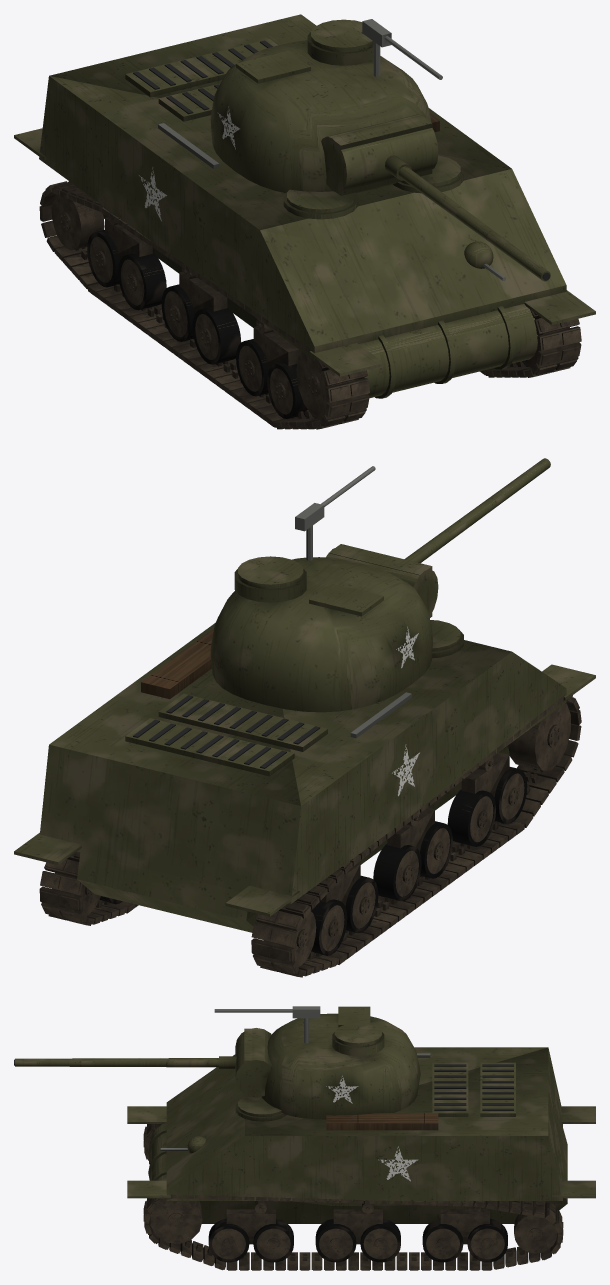
File: sherman.glb
3 renders of one model, top to bottom at view 1: azimuth 30°, elevation 25°; view 2: azimuth 150°, elevation 25°; view 3: azimuth 270°, elevation 25°, orthographic. The views are drawn at different scales.
Visible parts, largest first — view 1: Hull, Tracks, Turret, Gun; view 2: Hull, Turret, Tracks, Gun; view 3: Hull, Tracks, Turret, Gun.
Part boxes in pixels (x1,y1,x2,y2): Hull: (14,14,595,398); Tracks: (39,181,581,429); Turret: (210,19,442,195); Gun: (385,155,550,281); Hull: (14,620,595,932); Turret: (210,466,438,712); Tracks: (39,695,581,977); Gun: (404,458,550,563); Hull: (127,1047,595,1223); Tracks: (143,1124,563,1270); Turret: (214,1006,420,1119); Gun: (14,1056,236,1068).
Bounding box in the file's own units: 2.66 × 3.19 × 7.29.
Materials: 7 (5 with a texture image).
